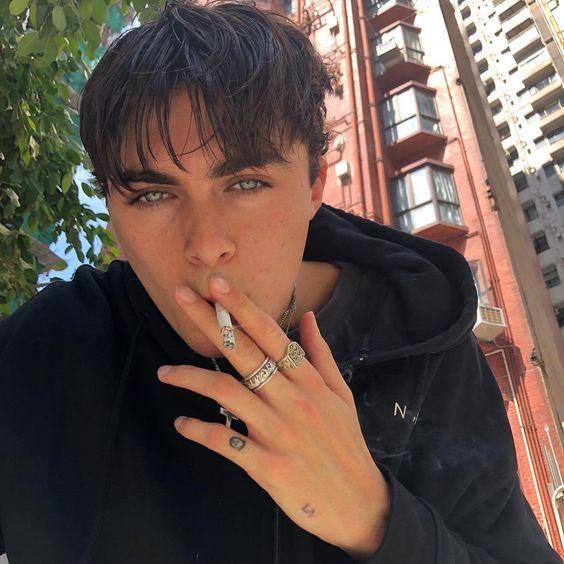cigarette: (214, 300, 236, 350)
